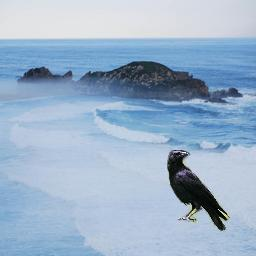Crow: (167, 150, 230, 232)
